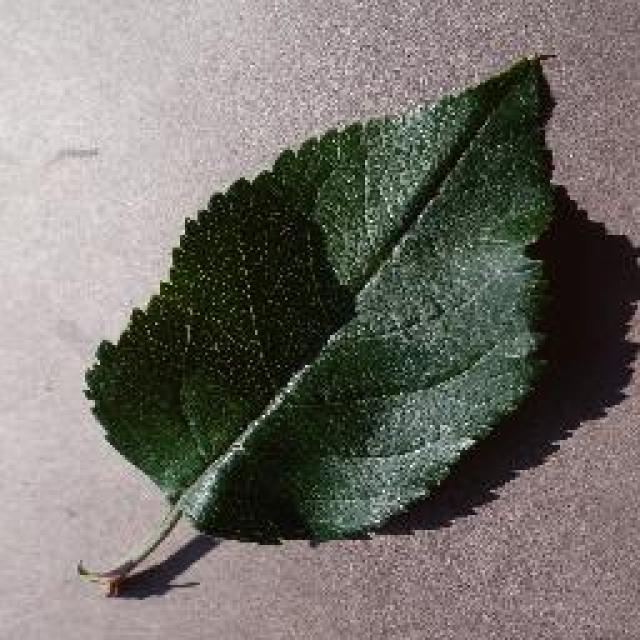apple healthy: (75, 47, 563, 595)
